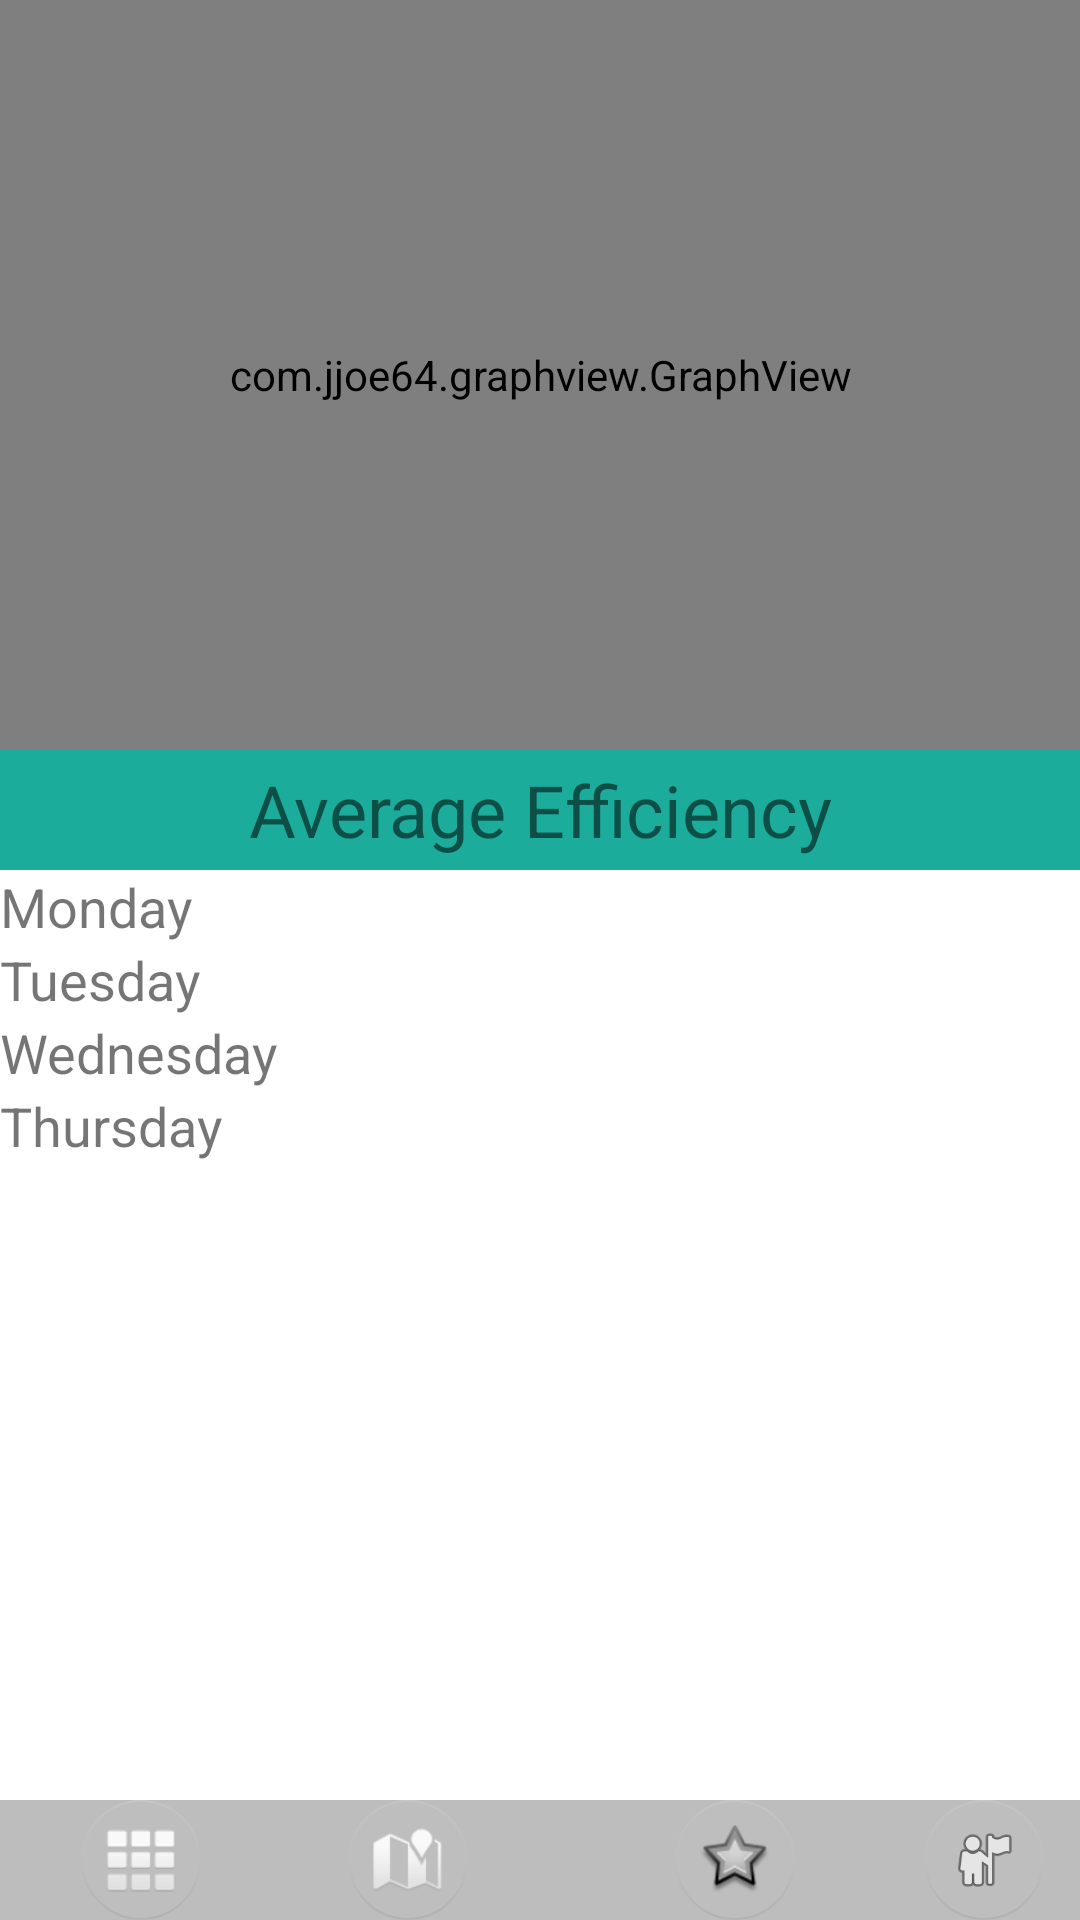

Point at icon controls on the screen. Image size 1080w x 1920h, points as (x=x, y=y).
dialer: (x=140, y=1860)
map: (x=407, y=1858)
myplaces: (x=985, y=1860)
star off: (x=735, y=1857)
